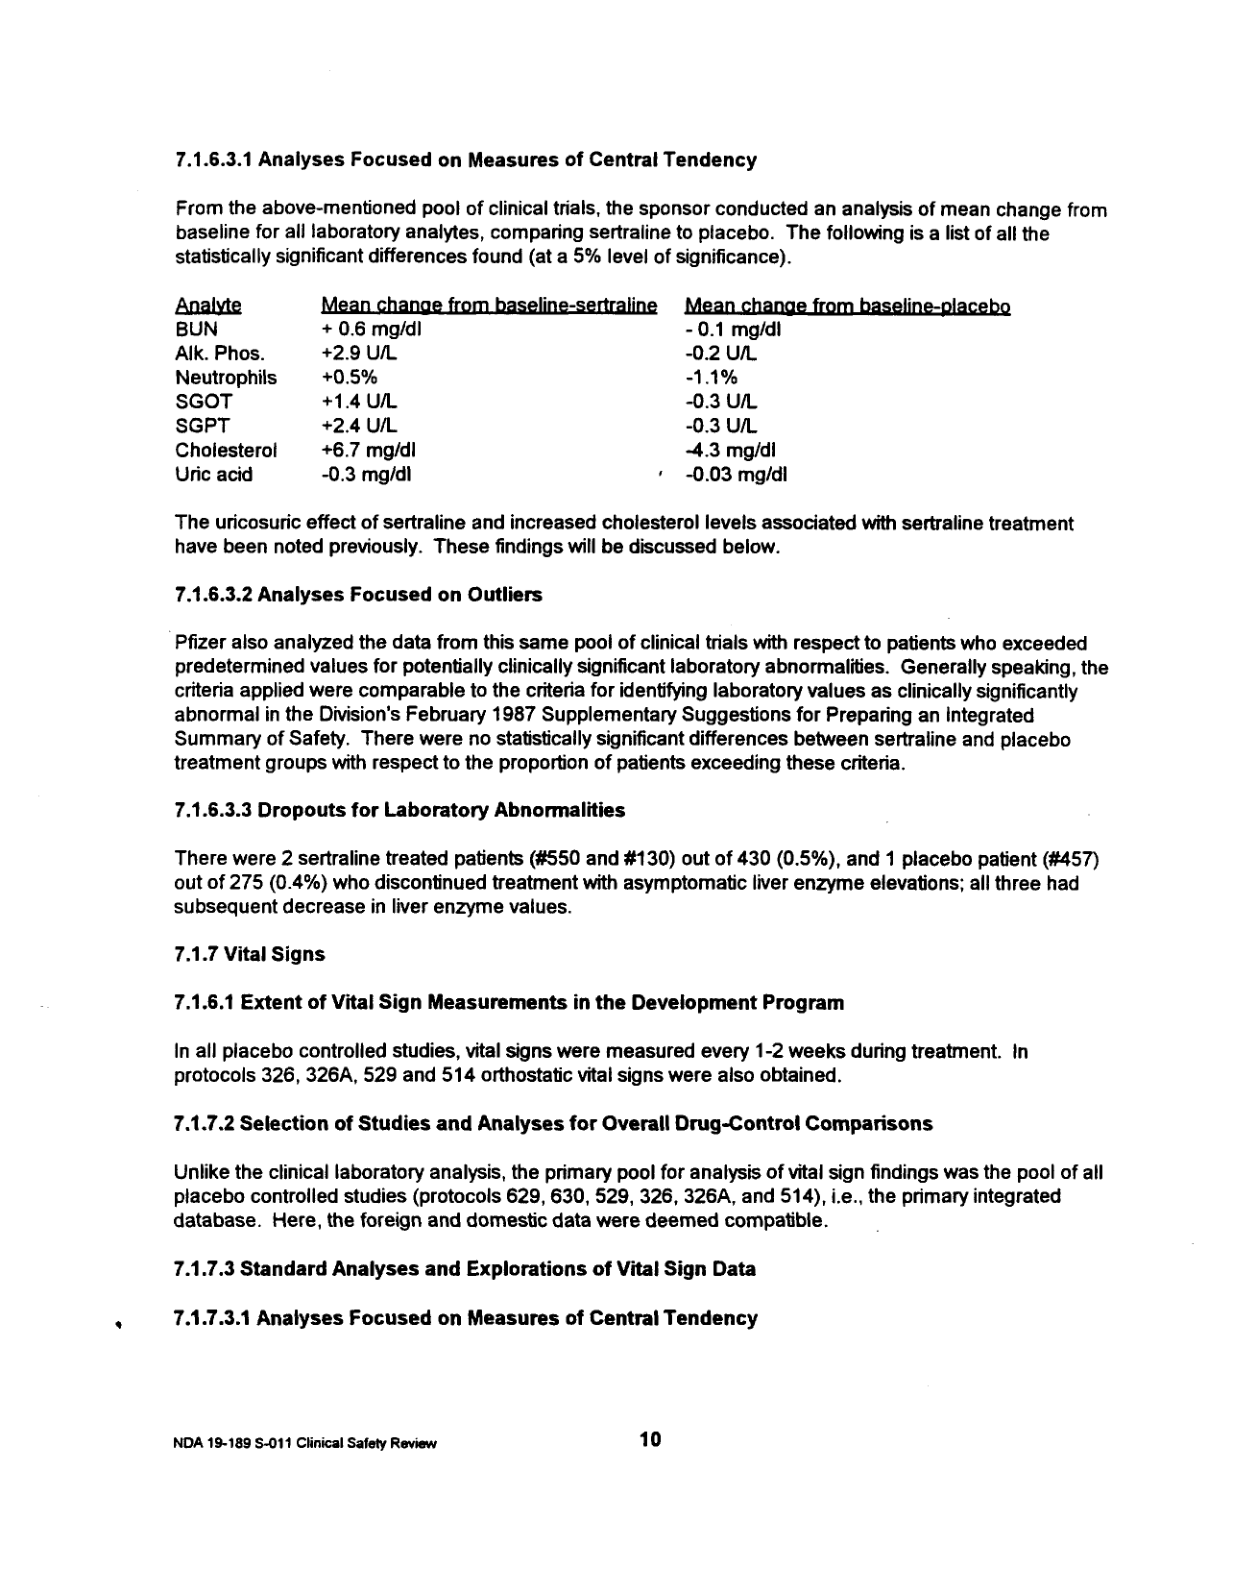nolines: (167, 296, 1016, 487)
